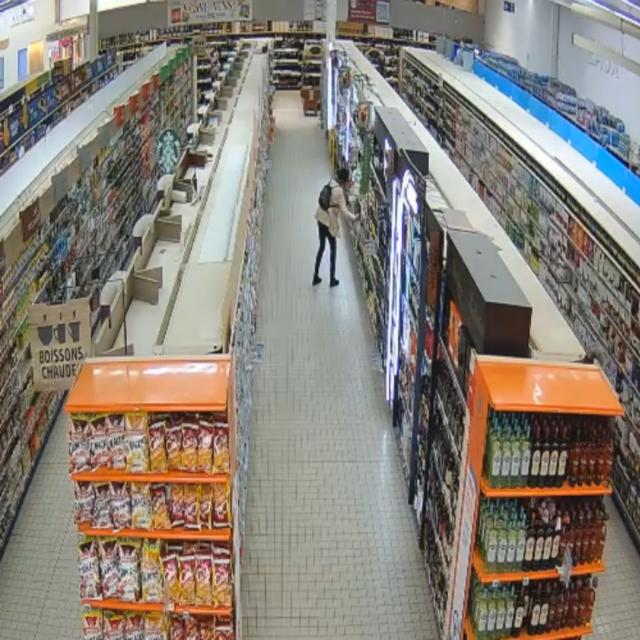bags: (319, 184, 332, 210)
hands: (350, 213, 359, 225)
person: (313, 168, 356, 287)
